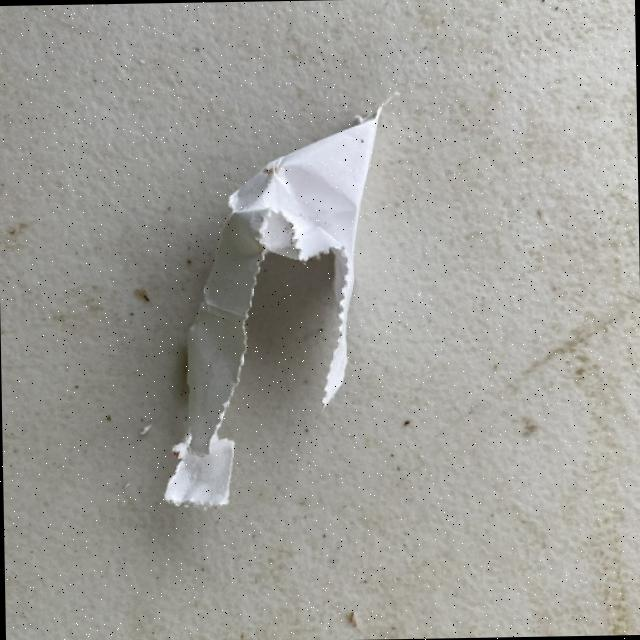paper: (155, 103, 388, 507)
